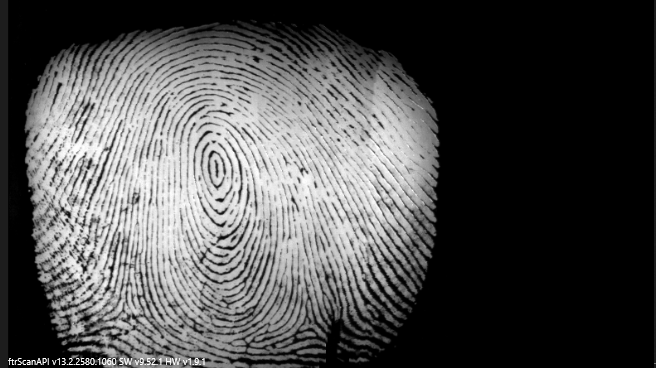nucelo: (206, 151, 225, 186)
verticilo: (110, 299, 134, 324), (297, 309, 316, 331)
